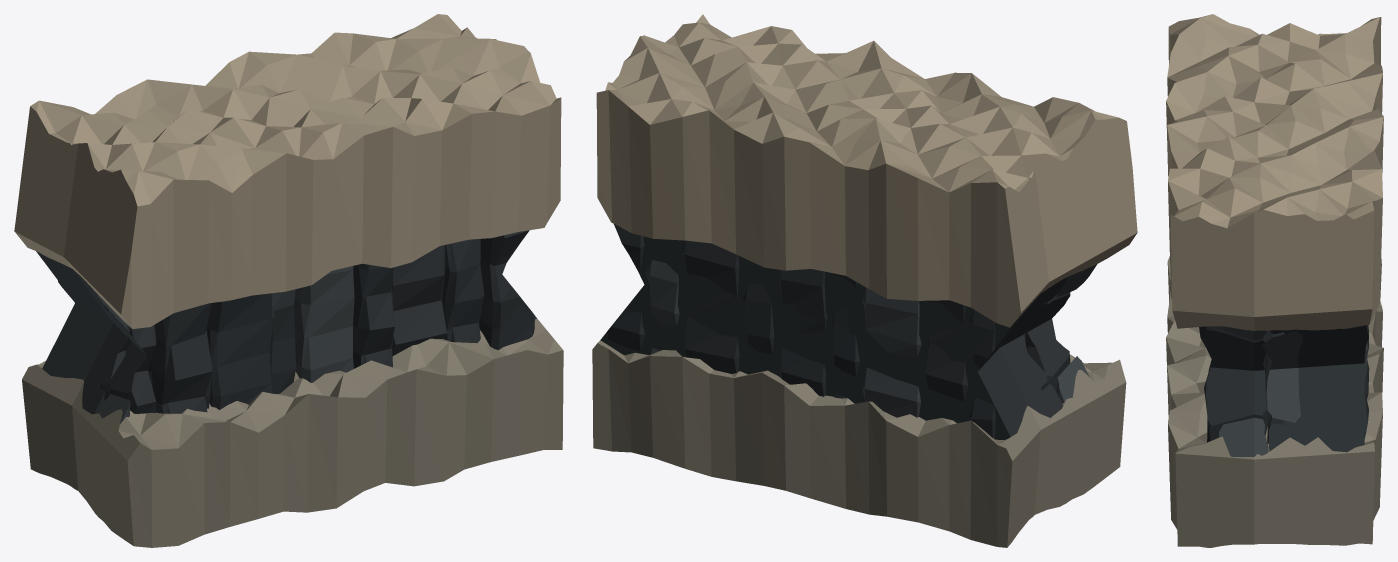
3 views of the same model, side by side, from view 1: azimuth 30°, elevation 25°; view 2: azimuth 150°, elevation 25°; view 3: azimuth 270°, elevation 25° (orthographic). The views are drawn at different scales.
Parts seen in each view (by area): view 1: uneven_resistant_upper_host_bed, uneven_resistant_lower_host_bed, unequal_chipped_face_cleat_front_short_staggered_butt_cleat, unequal_chipped_face_cleat_front_short_staggered_butt_cleats, recessed_coal_interior_continuous_core; view 2: uneven_resistant_upper_host_bed, uneven_resistant_lower_host_bed, unequal_chipped_face_cleat_front_short_staggered_butt_cleat, recessed_coal_interior_continuous_core, unequal_chipped_face_cleat_front_short_staggered_butt_cleats; view 3: uneven_resistant_upper_host_bed, uneven_resistant_lower_host_bed, unequal_chipped_face_cleat_front_short_staggered_butt_cleat, unequal_chipped_face_cleat_front_short_staggered_butt_cleats, recessed_coal_interior_continuous_core.
Part boxes in pixels (x1=…): uneven_resistant_upper_host_bed: x1=14, y1=14, x2=561, y2=329; uneven_resistant_lower_host_bed: x1=22, y1=318, x2=563, y2=547; unequal_chipped_face_cleat_front_short_staggered_butt_cleat: x1=36, y1=230, x2=534, y2=414; unequal_chipped_face_cleat_front_short_staggered_butt_cleats: x1=90, y1=266, x2=536, y2=423; recessed_coal_interior_continuous_core: x1=40, y1=257, x2=115, y2=386; uneven_resistant_upper_host_bed: x1=596, y1=14, x2=1137, y2=327; uneven_resistant_lower_host_bed: x1=592, y1=340, x2=1126, y2=547; unequal_chipped_face_cleat_front_short_staggered_butt_cleat: x1=607, y1=224, x2=1070, y2=438; recessed_coal_interior_continuous_core: x1=600, y1=236, x2=1041, y2=439; unequal_chipped_face_cleat_front_short_staggered_butt_cleats: x1=645, y1=260, x2=1097, y2=417; uneven_resistant_upper_host_bed: x1=1166, y1=14, x2=1383, y2=330; uneven_resistant_lower_host_bed: x1=1166, y1=256, x2=1383, y2=547; unequal_chipped_face_cleat_front_short_staggered_butt_cleat: x1=1199, y1=325, x2=1369, y2=452; unequal_chipped_face_cleat_front_short_staggered_butt_cleats: x1=1219, y1=326, x2=1368, y2=456; recessed_coal_interior_continuous_core: x1=1284, y1=329, x2=1364, y2=444.
Size of the model in its own units: 3.3 by 2.57 by 1.47.
